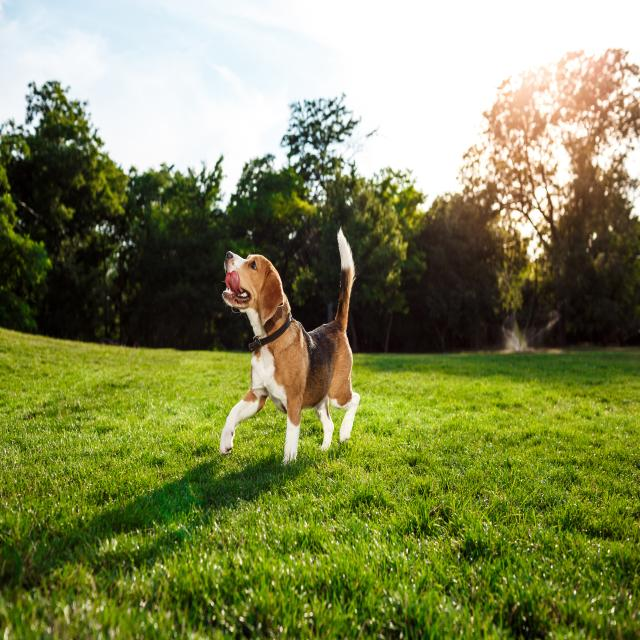dog: (217, 226, 359, 462)
